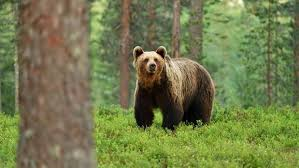bear: (129, 45, 216, 130)
